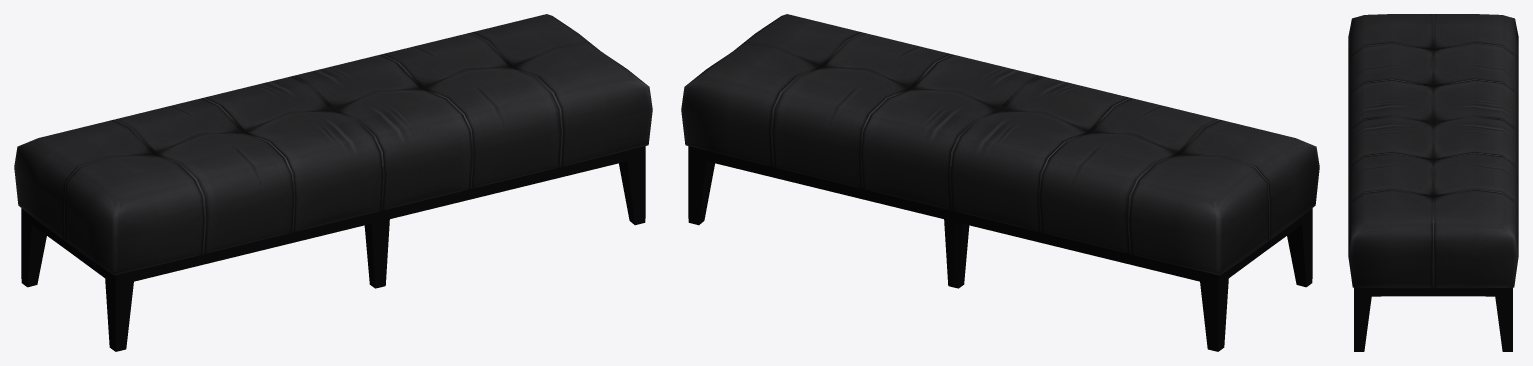
File: BedSeat02.FBX
The picture shows the model from 3 angles, left to right: view 1: azimuth 30°, elevation 25°; view 2: azimuth 150°, elevation 25°; view 3: azimuth 270°, elevation 25°; orthographic projection. The views are drawn at different scales.
Visible parts, largest first — view 1: BedSeat02; view 2: BedSeat02; view 3: BedSeat02.
Part boxes in pixels (left/top/right/bottom): BedSeat02: left=14, top=14, right=652, bottom=351; BedSeat02: left=681, top=14, right=1319, bottom=351; BedSeat02: left=1348, top=14, right=1518, bottom=351.
Bounding box in the file's own units: 161 × 51.77 × 42.87.
